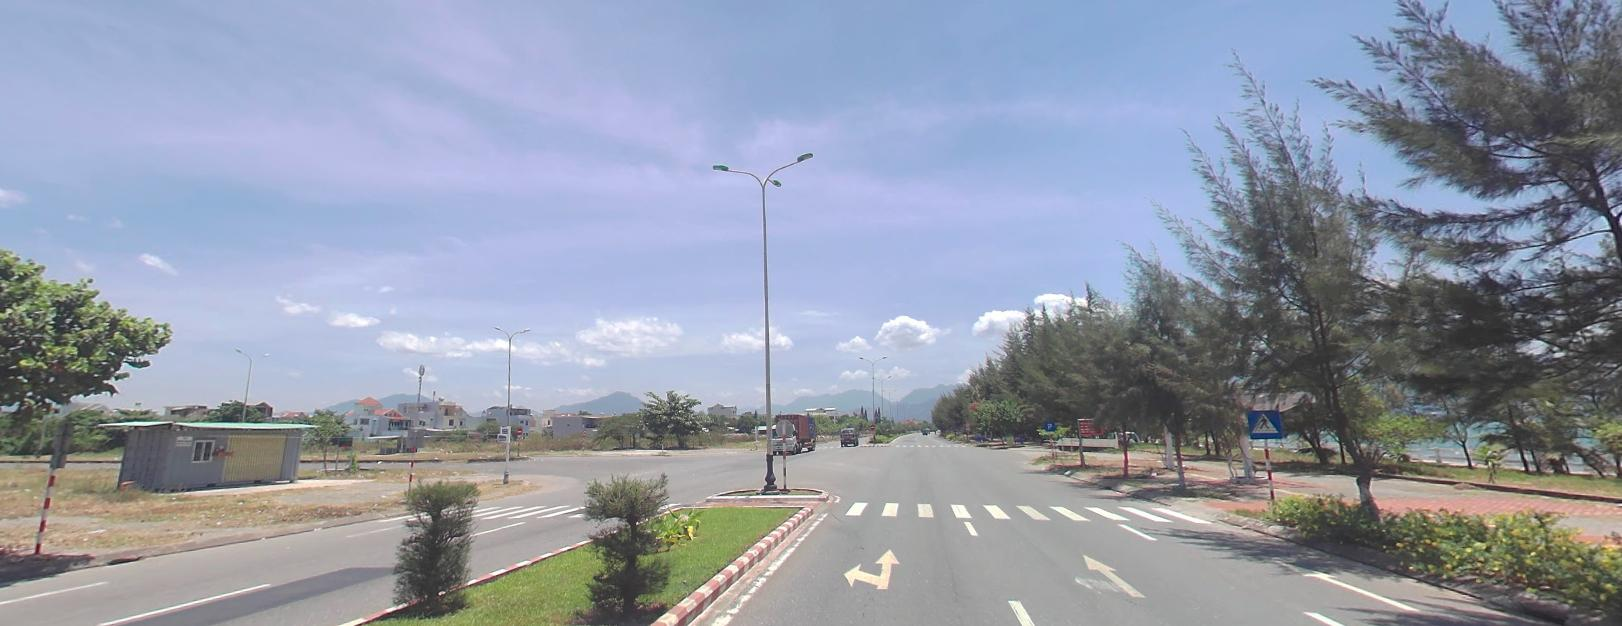Cam nguoc chieu: (515, 427, 523, 434), (869, 423, 874, 428)
